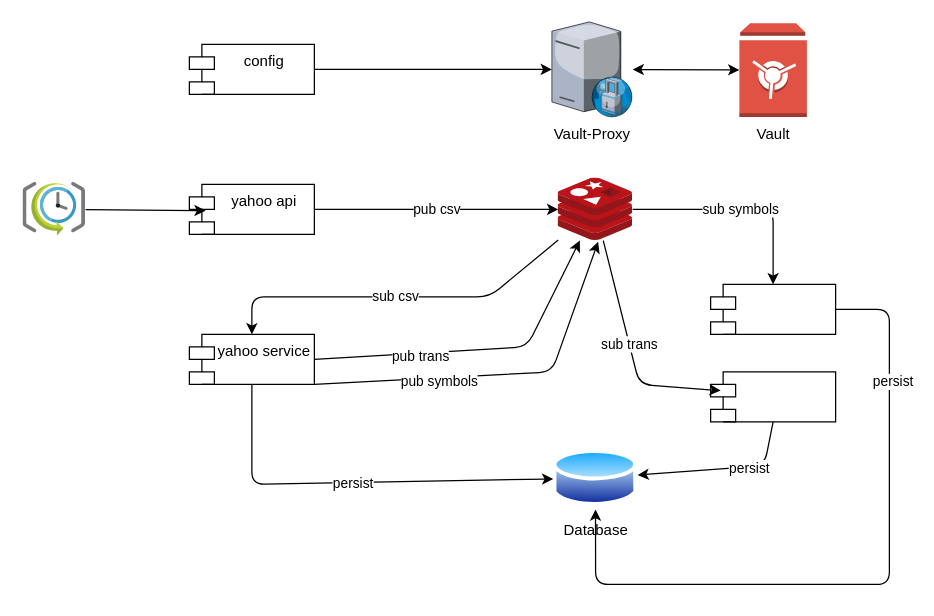
The diagram is 934 pixels wide and 616 high, and some of its shapes have lost their labels. The shapes that lost their labels are listed below. From the top down, each one's centre as x and y in pixels, then its label:
the point at 53,209: Yahoo-Py
the point at 772,308: symbol service
the point at 772,396: transaction service
